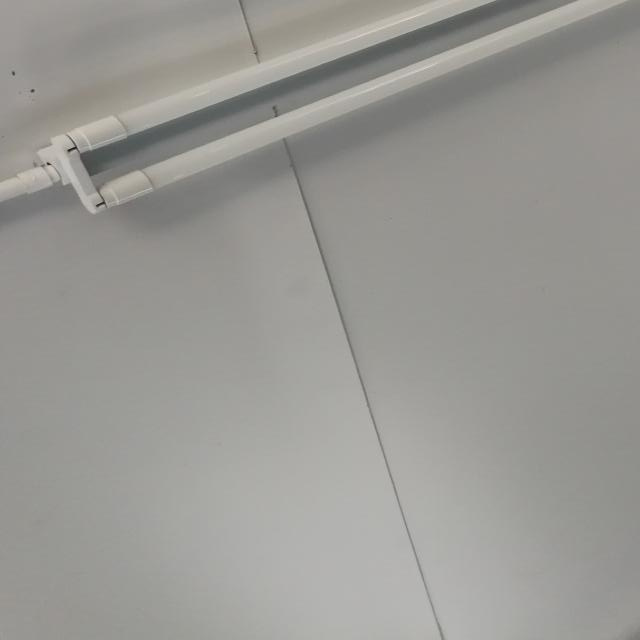fluorescent tube: (38, 0, 640, 232)
